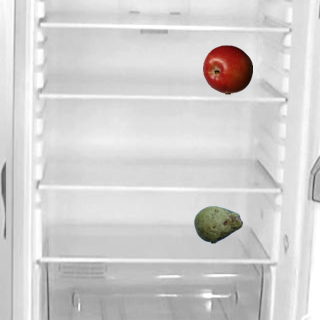Apple Braeburn: (202, 44, 252, 94)
Pear Stone: (193, 199, 243, 249)
